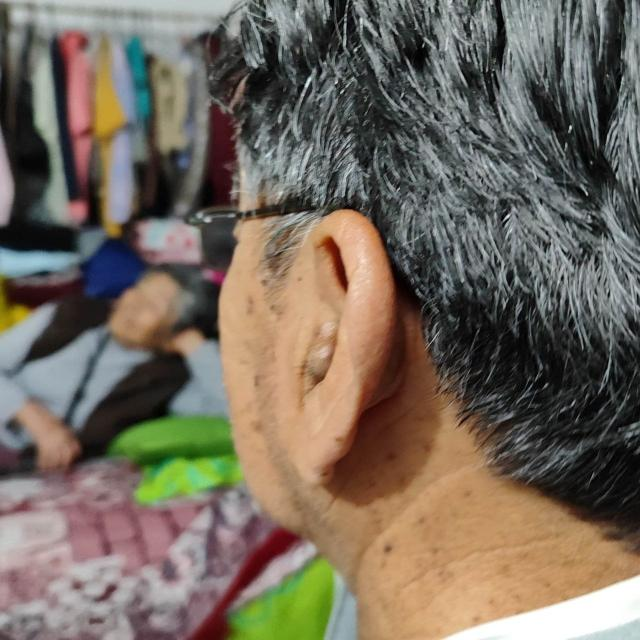ear: (295, 211, 395, 482)
